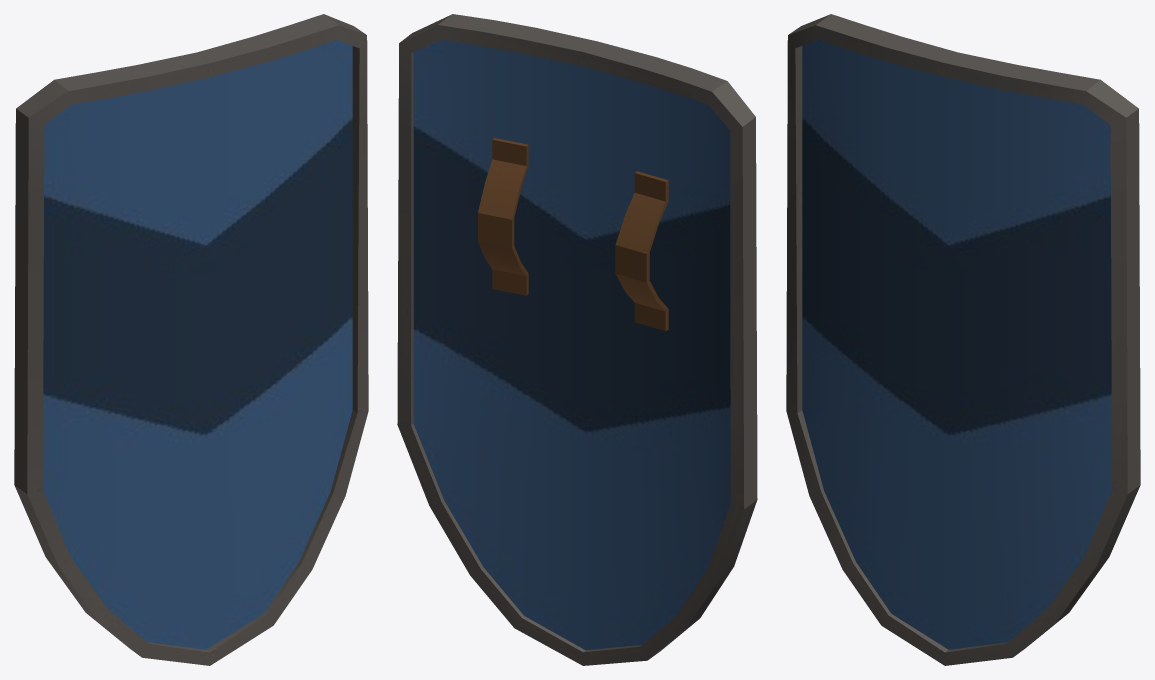
Rendered from Heater Shield_Blue.fbx.
The picture shows the model from 3 angles, left to right: view 1: azimuth 30°, elevation 25°; view 2: azimuth 150°, elevation 25°; view 3: azimuth 330°, elevation 25°; orthographic projection.
Parts seen in each view (by area): view 1: Heater Shield_Blue_Baked; view 2: Heater Shield_Blue_Baked; view 3: Heater Shield_Blue_Baked.
Part boxes in pixels (bbox=[...]): Heater Shield_Blue_Baked: bbox=[14, 14, 368, 665]; Heater Shield_Blue_Baked: bbox=[397, 14, 757, 665]; Heater Shield_Blue_Baked: bbox=[786, 14, 1140, 665].
Size of the model in its own units: 49.83 by 84.28 by 8.78.
Materials: 1 (1 with a texture image).
